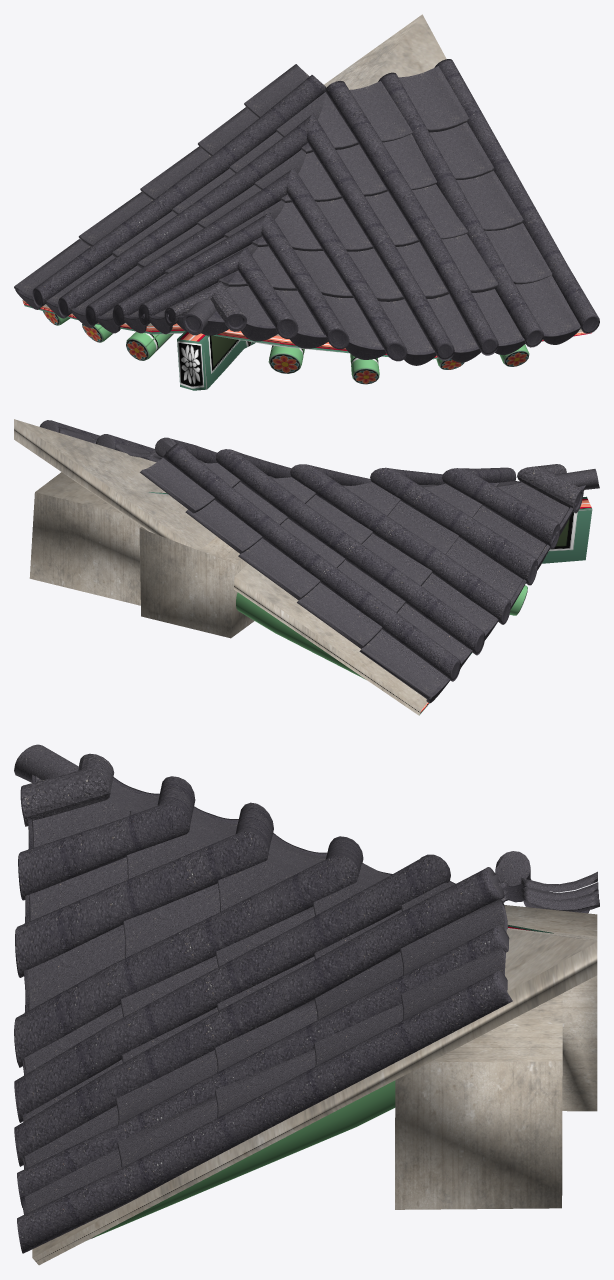
File: SM_R_RoofCorner_13.fbx
3 views of the same model, one above another, from view 1: azimuth 30°, elevation 25°; view 2: azimuth 150°, elevation 25°; view 3: azimuth 270°, elevation 25° (orthographic). The views are drawn at different scales.
Visible parts, largest first — view 1: SM_R_RoofCorner_13; view 2: SM_R_RoofCorner_13; view 3: SM_R_RoofCorner_13.
Boxes of the visible parts, box(x1,y1,x2,y2) form: SM_R_RoofCorner_13: box(14, 14, 599, 390); SM_R_RoofCorner_13: box(14, 419, 599, 715); SM_R_RoofCorner_13: box(14, 744, 599, 1265).
Bounding box in the file's own units: 340 × 253 × 172.
Materials: 5 (5 with a texture image).
